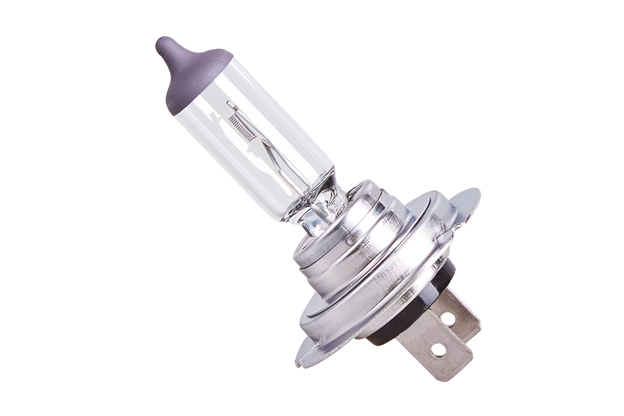Light_bulb: (149, 35, 495, 389)
